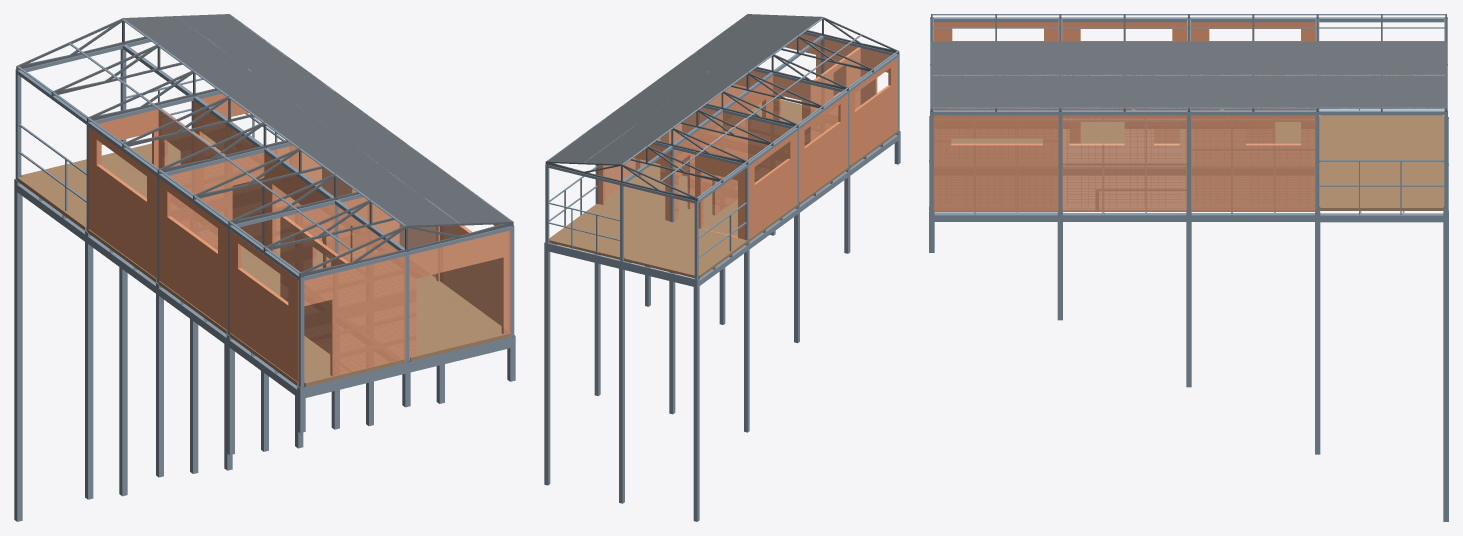
File: ArquitectonicoBarbosa.glb
The picture shows the model from 3 angles, left to right: view 1: azimuth 30°, elevation 25°; view 2: azimuth 150°, elevation 25°; view 3: azimuth 270°, elevation 25°; orthographic projection. The views are drawn at different scales.
Visible parts, largest first — view 1: MuroA008 (×2), MuroA007 (×2), MuroA014 (×2), MuroL008, MuroL020, MuroL007, MuroL010 (×2), MuroL009 (×2), Losa004, MuroL019 (×2), Losa003, MuroL013 (×2) (+41 smaller); view 2: Losa003, Losa007, MuroL020, MuroL010 (×2), MuroL018 (×2), MuroL008, MuroL007, MuroA014 (×2), MuroL019 (×2), MuroA008 (×2), Losa006, MuroA010 (×2) (+34 smaller); view 3: MuroL021 (×2), MuroL012 (×2), MuroL009 (×2), Losa007, Losa003, Rectangle049, Rectangle042, Rectangle048, Rectangle047, Rectangle046, Rectangle043, Rectangle045 (+26 smaller).
Boxes of the visible parts, box(x1,y1,x2,y2) form: MuroA008 (×2): box(304, 256, 405, 376); MuroA007 (×2): box(409, 230, 510, 360); MuroA014 (×2): box(169, 152, 264, 250); MuroL008: box(229, 230, 298, 385); MuroL020: box(88, 127, 157, 282); MuroL007: box(159, 178, 227, 334); MuroL010 (×2): box(282, 216, 348, 353); MuroL009 (×2): box(440, 224, 501, 325); Losa004: box(410, 281, 510, 361); MuroL019 (×2): box(193, 101, 262, 243); Losa003: box(17, 152, 146, 230); MuroL013 (×2): box(264, 153, 326, 267); Losa003: box(624, 221, 747, 278); Losa007: box(549, 203, 672, 259); MuroL020: box(748, 131, 797, 241); MuroL010 (×2): box(812, 47, 860, 140); MuroL018 (×2): box(700, 118, 747, 224); MuroL008: box(849, 57, 897, 167); MuroL007: box(799, 94, 847, 204); MuroA014 (×2): box(723, 112, 789, 182); MuroL019 (×2): box(674, 113, 722, 220); MuroA008 (×2): box(823, 39, 890, 104); Losa006: box(604, 166, 710, 220); MuroA010 (×2): box(773, 76, 811, 145); MuroL021 (×2): box(1191, 115, 1315, 211); MuroL012 (×2): box(1062, 115, 1186, 211); MuroL009 (×2): box(933, 115, 1058, 211); Losa007: box(1319, 161, 1444, 210); Losa003: box(1319, 115, 1444, 162); Rectangle049: box(1382, 41, 1445, 108); Rectangle042: box(932, 41, 995, 108); Rectangle048: box(1318, 41, 1380, 108); Rectangle047: box(1254, 41, 1316, 108); Rectangle046: box(1190, 41, 1252, 108); Rectangle043: box(997, 41, 1059, 108); Rectangle045: box(1125, 41, 1187, 108).
Bounding box in the file's own units: 6.15 × 13 × 14.15.
